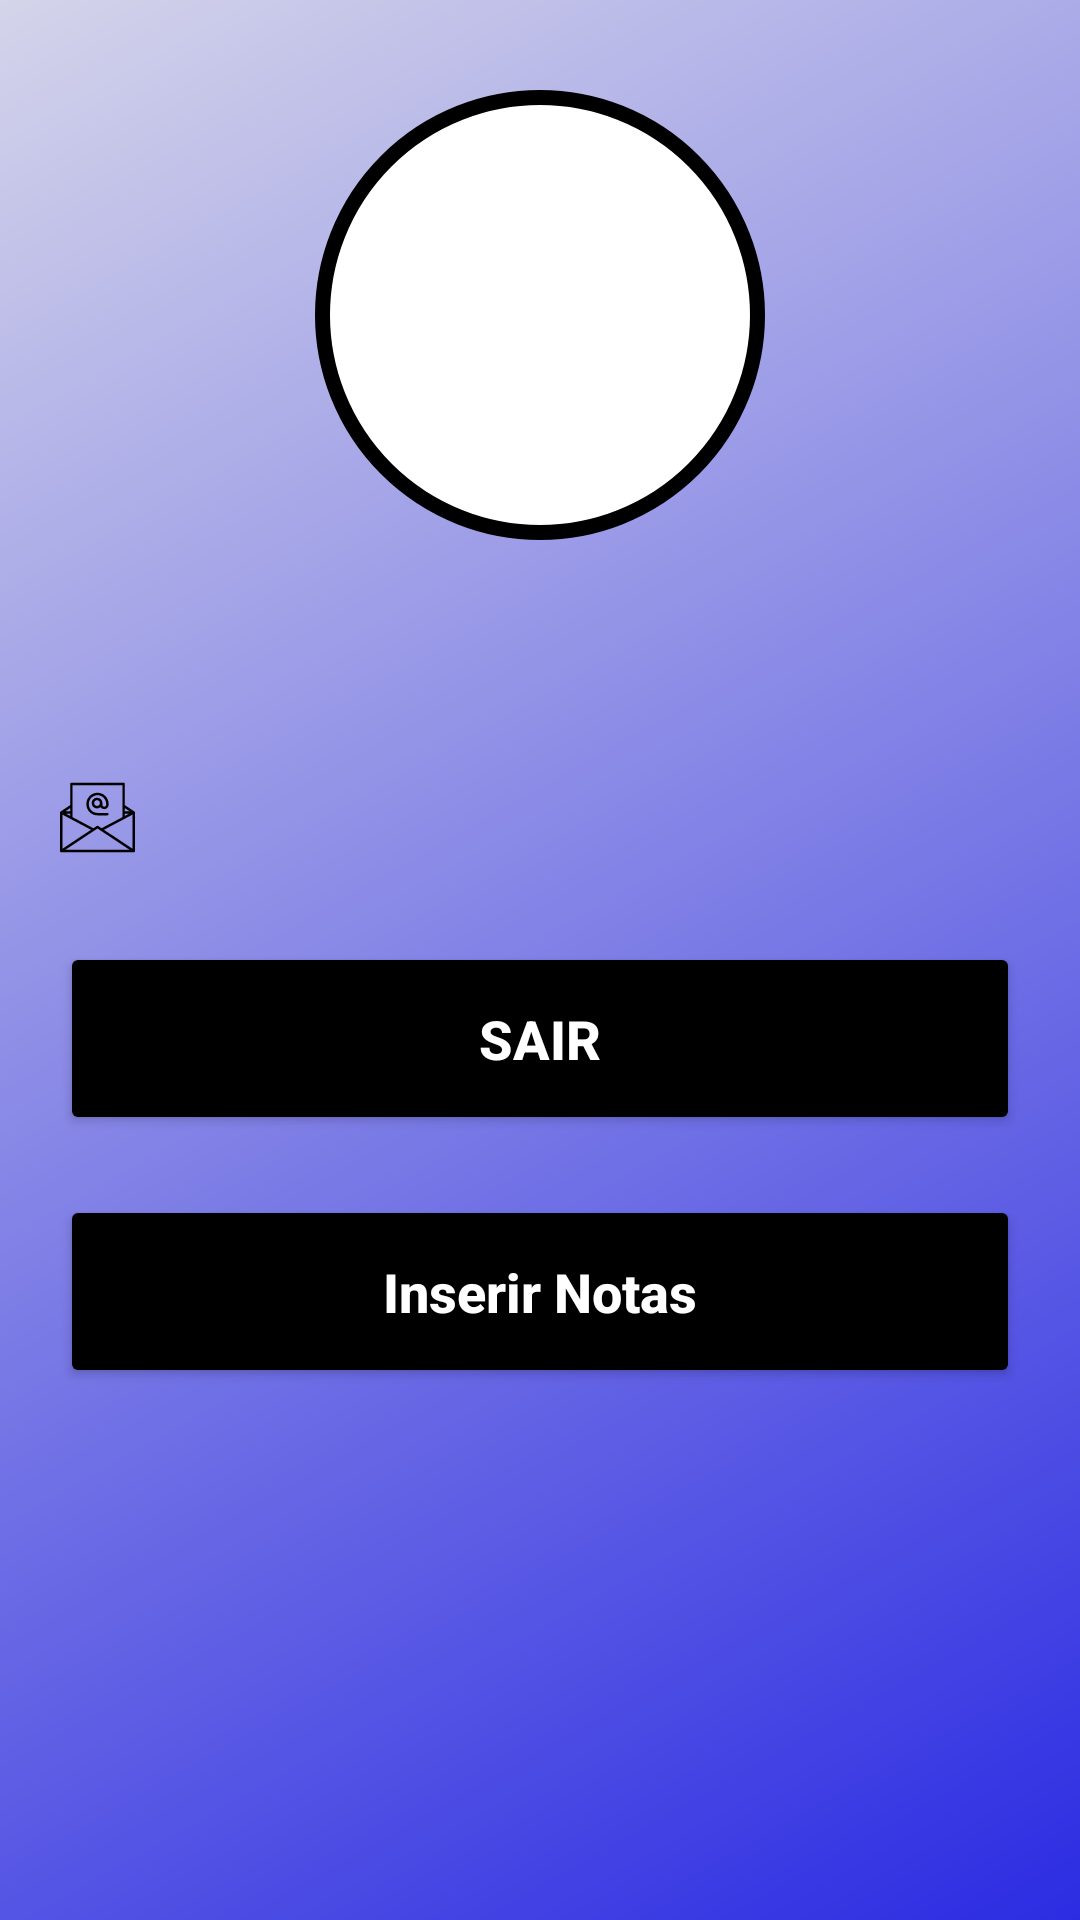

Named icons in this screenshot (1080×1920) and their centers, point (x, y):
email: point (97, 817)
